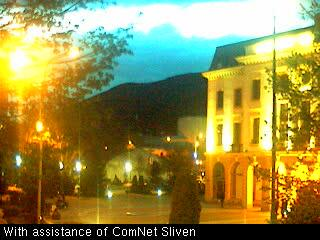person: (218, 192, 226, 208)
